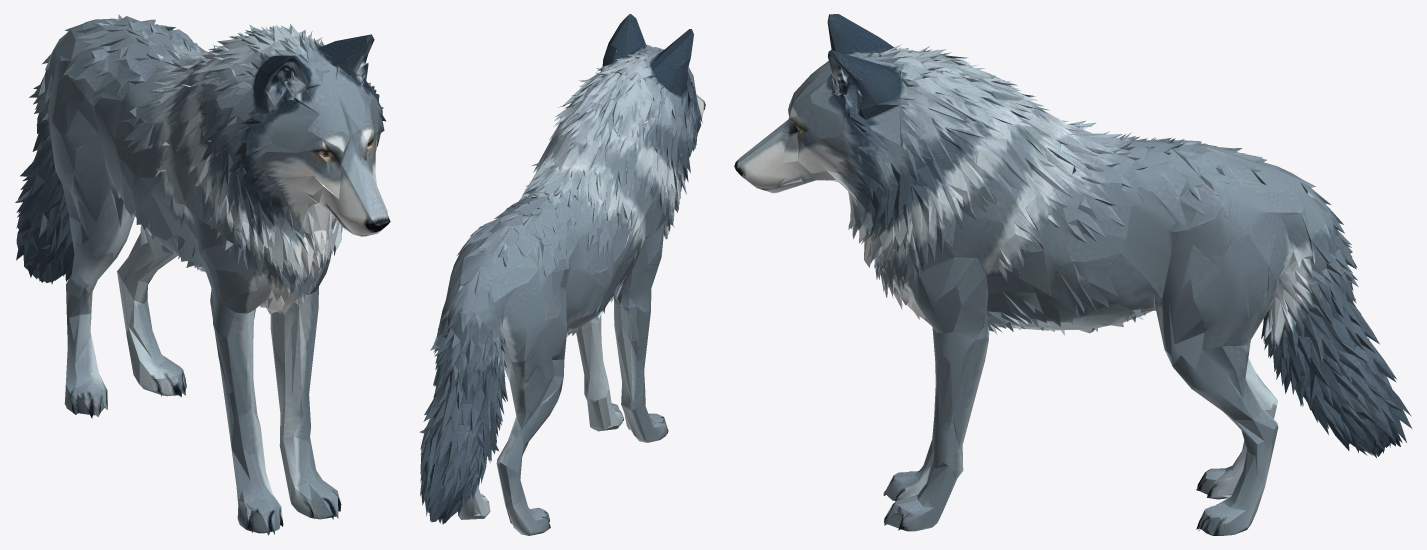
The model's file is wolf.glb.
3 views of the same model, side by side, from view 1: azimuth 30°, elevation 25°; view 2: azimuth 150°, elevation 25°; view 3: azimuth 270°, elevation 25° (orthographic). The views are drawn at different scales.
Bounding box in the file's own units: 0.4759 × 1.48 × 1.9.
Materials: 1 (1 with a texture image).
